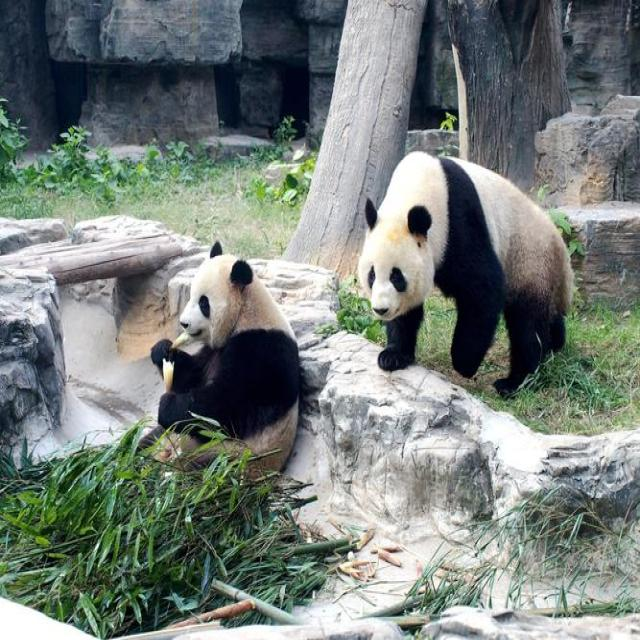panda: (351, 142, 588, 413), (117, 221, 318, 496)
